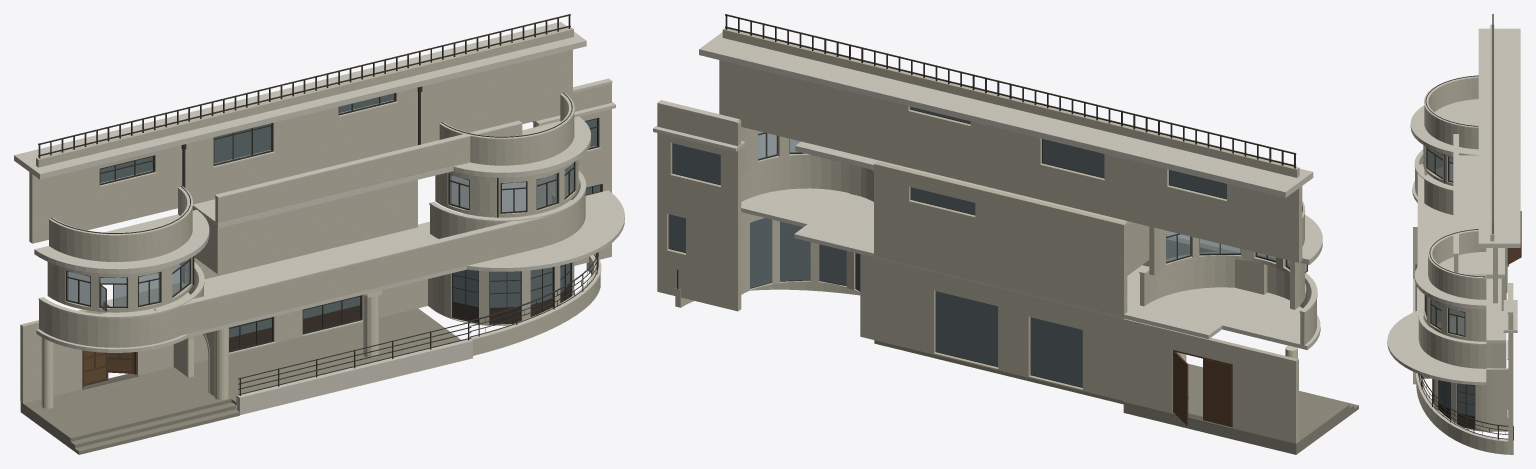
The model's file is lod-source.glb.
3 views of the same model, side by side, from view 1: azimuth 30°, elevation 25°; view 2: azimuth 150°, elevation 25°; view 3: azimuth 270°, elevation 25° (orthographic). The views are drawn at different scales.
Visible parts, largest first — view 1: 余庆路80号双圆阳光房花园立面; view 2: 余庆路80号双圆阳光房花园立面; view 3: 余庆路80号双圆阳光房花园立面.
Boxes of the visible parts, <box> form: 余庆路80号双圆阳光房花园立面: <box>14,14,624,454</box>; 余庆路80号双圆阳光房花园立面: <box>653,14,1358,454</box>; 余庆路80号双圆阳光房花园立面: <box>1387,14,1521,454</box>.
Size of the model in its own units: 24.95 by 10.95 by 6.07.
15 materials, 3 textured.
